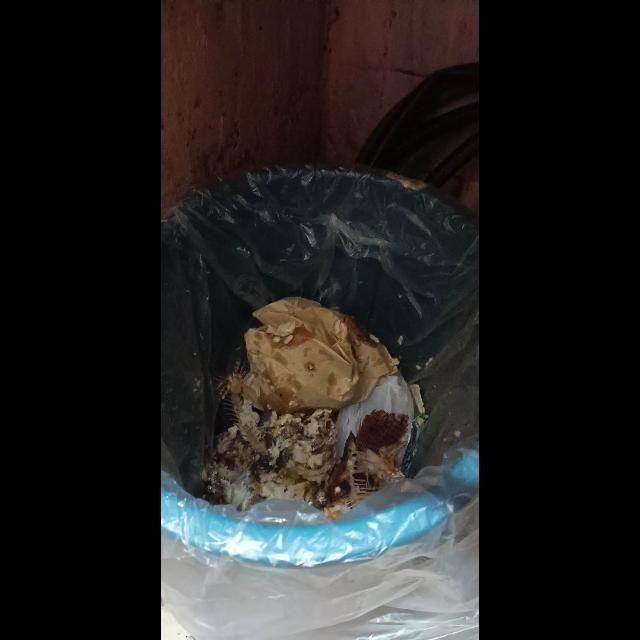left_over_food: (204, 373, 409, 521)
paper: (242, 297, 399, 417)
